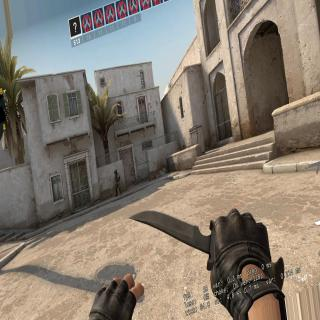CT-Body: (113, 168, 123, 196)
CT-Head: (114, 169, 117, 174)
